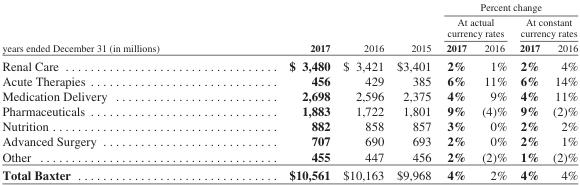table: (1, 1, 577, 182)
table column: (1, 1, 223, 182), (223, 1, 335, 182), (335, 1, 389, 182), (389, 1, 438, 182), (473, 1, 512, 182), (438, 1, 473, 182), (512, 1, 545, 182), (545, 1, 577, 182)
table column header: (1, 1, 577, 55)
table row: (1, 14, 577, 39), (1, 55, 577, 72), (1, 148, 577, 165), (1, 165, 577, 182), (1, 39, 577, 55), (1, 102, 577, 118), (1, 72, 577, 87), (1, 87, 577, 102), (1, 118, 577, 133), (1, 133, 577, 148), (1, 1, 577, 14)
table spanning cell: (1, 1, 223, 55), (223, 1, 335, 55), (335, 1, 389, 55), (389, 1, 438, 55), (438, 14, 512, 39), (438, 1, 577, 14), (512, 14, 577, 39)
